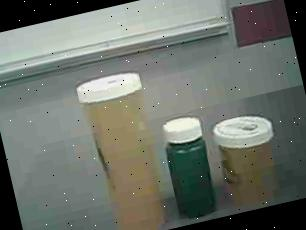Bottle A: (65, 64, 177, 230)
Bottle B: (210, 106, 292, 214)
Bottle C: (157, 110, 225, 226)
